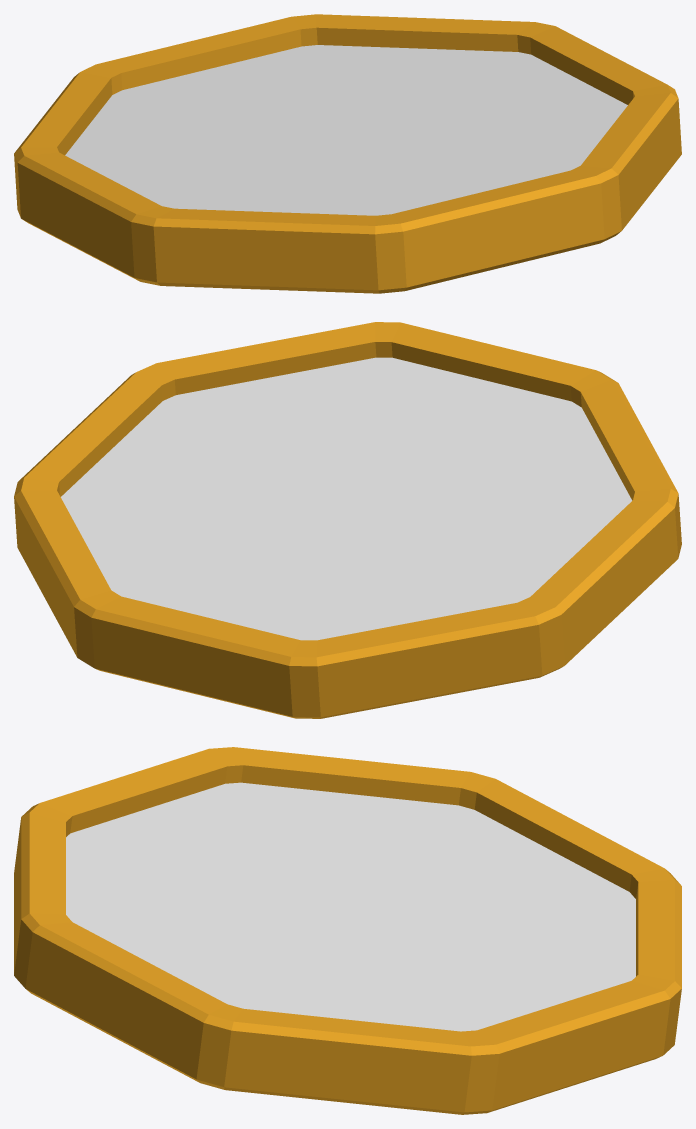
File: coinprueba2-unity.fbx
The picture shows the model from 3 angles, top to bottom: view 1: azimuth 30°, elevation 25°; view 2: azimuth 150°, elevation 25°; view 3: azimuth 270°, elevation 25°; orthographic projection. The views are drawn at different scales.
Visible parts, largest first — view 1: moneda lado2; view 2: moneda lado2; view 3: moneda lado2.
Boxes of the visible parts, x1,y1,x2,y2 form: moneda lado2: [14, 14, 681, 293]; moneda lado2: [14, 322, 681, 718]; moneda lado2: [14, 747, 681, 1114].
Bounding box in the file's own units: 4.02 × 0.9073 × 4.04.
